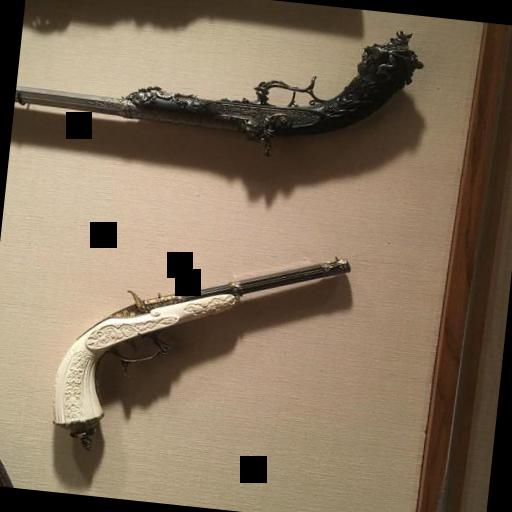Handgun: (38, 224, 356, 472), (12, 0, 429, 165)
